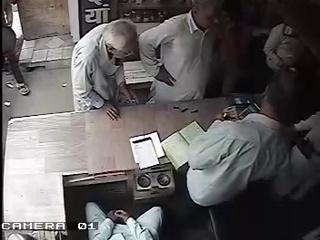Normal: (185, 66, 319, 239), (138, 0, 227, 104), (70, 20, 140, 122), (0, 1, 31, 96), (85, 202, 163, 239)
